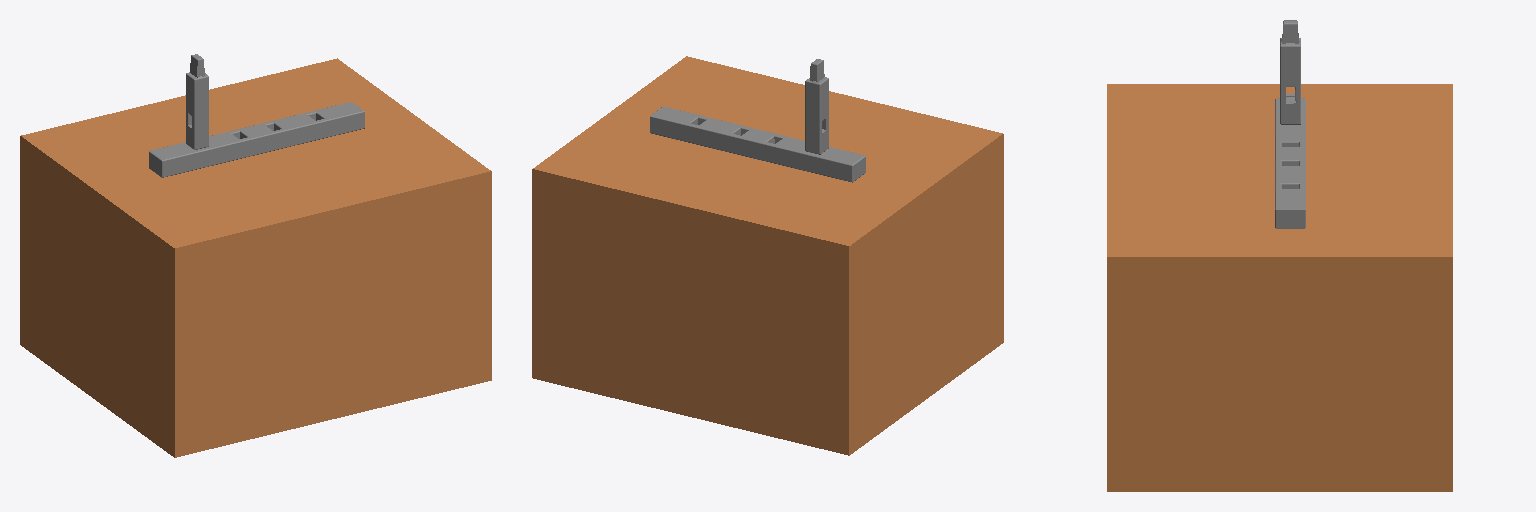
The robot description file, URDF, robot "table_beam_2x_0_scene_0035":
<?xml version="1.0"?>
<robot name="table_beam_2x_0_scene_0035">
  <link name="box">
    <visual>
      <material name="wood"><color rgba="0.82 0.56 0.35 1.0"/></material>
      <origin xyz="0 0 0"/>
      <geometry><box size="0.475 0.4 0.3"/></geometry>
    </visual>
    <collision>
      <origin xyz="0 0 0"/>
      <geometry><box size="0.475 0.4 0.3"/></geometry>
    </collision>
    <inertial>
      <mass value="500"/>
      <friction value="1.0"/>
      <inertia ixx="1000.0" ixy="0.0" ixz="0.0" iyy="1000.0" iyz="0.0" izz="1000.0"/>
    </inertial>
  </link>
  <link name="part_6_canonical">
    <visual>
      <origin xyz="0 0 0" rpy="0 0 0"/>
      <geometry><mesh filename="../../6/6_canonical.obj" scale="1 1 1"/></geometry>
      <material name="placed_0"><color rgba="0.6 0.6 0.6 1.0"/></material>
    </visual>
    <collision>
      <origin xyz="0 0 0" rpy="0 0 0"/>
      <geometry><mesh filename="../../6/6_canonical.obj" scale="1 1 1"/></geometry>
    </collision>
  </link>
  <joint name="part_6_canonical_joint" type="fixed">
    <parent link="box"/>
    <child link="part_6_canonical"/>
    <origin xyz="0.008217 0.012185 0.162666" rpy="0.000000 0.000000 0.000000"/>
  </joint>
  <link name="part_2_hull_0">
    <visual>
      <origin xyz="0 0 0" rpy="0 0 0"/>
      <geometry><mesh filename="../../2/coacd/decomp_0.obj" scale="1 1 1"/></geometry>
      <material name="placed_1"><color rgba="0.6 0.6 0.6 1.0"/></material>
    </visual>
    <collision>
      <origin xyz="0 0 0" rpy="0 0 0"/>
      <geometry><mesh filename="../../2/coacd/decomp_0.obj" scale="1 1 1"/></geometry>
    </collision>
  </link>
  <joint name="part_2_hull_0_joint" type="fixed">
    <parent link="box"/>
    <child link="part_2_hull_0"/>
    <origin xyz="-0.080710 0.012185 0.225384" rpy="0.000000 -1.570796 0.000000"/>
  </joint>
  <link name="part_2_hull_1">
    <visual>
      <origin xyz="0 0 0" rpy="0 0 0"/>
      <geometry><mesh filename="../../2/coacd/decomp_1.obj" scale="1 1 1"/></geometry>
      <material name="placed_2"><color rgba="0.6 0.6 0.6 1.0"/></material>
    </visual>
    <collision>
      <origin xyz="0 0 0" rpy="0 0 0"/>
      <geometry><mesh filename="../../2/coacd/decomp_1.obj" scale="1 1 1"/></geometry>
    </collision>
  </link>
  <joint name="part_2_hull_1_joint" type="fixed">
    <parent link="box"/>
    <child link="part_2_hull_1"/>
    <origin xyz="-0.080710 0.012185 0.225384" rpy="0.000000 -1.570796 0.000000"/>
  </joint>
  <link name="part_2_hull_2">
    <visual>
      <origin xyz="0 0 0" rpy="0 0 0"/>
      <geometry><mesh filename="../../2/coacd/decomp_10.obj" scale="1 1 1"/></geometry>
      <material name="placed_3"><color rgba="0.6 0.6 0.6 1.0"/></material>
    </visual>
    <collision>
      <origin xyz="0 0 0" rpy="0 0 0"/>
      <geometry><mesh filename="../../2/coacd/decomp_10.obj" scale="1 1 1"/></geometry>
    </collision>
  </link>
  <joint name="part_2_hull_2_joint" type="fixed">
    <parent link="box"/>
    <child link="part_2_hull_2"/>
    <origin xyz="-0.080710 0.012185 0.225384" rpy="0.000000 -1.570796 0.000000"/>
  </joint>
  <link name="part_2_hull_3">
    <visual>
      <origin xyz="0 0 0" rpy="0 0 0"/>
      <geometry><mesh filename="../../2/coacd/decomp_11.obj" scale="1 1 1"/></geometry>
      <material name="placed_4"><color rgba="0.6 0.6 0.6 1.0"/></material>
    </visual>
    <collision>
      <origin xyz="0 0 0" rpy="0 0 0"/>
      <geometry><mesh filename="../../2/coacd/decomp_11.obj" scale="1 1 1"/></geometry>
    </collision>
  </link>
  <joint name="part_2_hull_3_joint" type="fixed">
    <parent link="box"/>
    <child link="part_2_hull_3"/>
    <origin xyz="-0.080710 0.012185 0.225384" rpy="0.000000 -1.570796 0.000000"/>
  </joint>
  <link name="part_2_hull_4">
    <visual>
      <origin xyz="0 0 0" rpy="0 0 0"/>
      <geometry><mesh filename="../../2/coacd/decomp_12.obj" scale="1 1 1"/></geometry>
      <material name="placed_5"><color rgba="0.6 0.6 0.6 1.0"/></material>
    </visual>
    <collision>
      <origin xyz="0 0 0" rpy="0 0 0"/>
      <geometry><mesh filename="../../2/coacd/decomp_12.obj" scale="1 1 1"/></geometry>
    </collision>
  </link>
  <joint name="part_2_hull_4_joint" type="fixed">
    <parent link="box"/>
    <child link="part_2_hull_4"/>
    <origin xyz="-0.080710 0.012185 0.225384" rpy="0.000000 -1.570796 0.000000"/>
  </joint>
  <link name="part_2_hull_5">
    <visual>
      <origin xyz="0 0 0" rpy="0 0 0"/>
      <geometry><mesh filename="../../2/coacd/decomp_13.obj" scale="1 1 1"/></geometry>
      <material name="placed_6"><color rgba="0.6 0.6 0.6 1.0"/></material>
    </visual>
    <collision>
      <origin xyz="0 0 0" rpy="0 0 0"/>
      <geometry><mesh filename="../../2/coacd/decomp_13.obj" scale="1 1 1"/></geometry>
    </collision>
  </link>
  <joint name="part_2_hull_5_joint" type="fixed">
    <parent link="box"/>
    <child link="part_2_hull_5"/>
    <origin xyz="-0.080710 0.012185 0.225384" rpy="0.000000 -1.570796 0.000000"/>
  </joint>
  <link name="part_2_hull_6">
    <visual>
      <origin xyz="0 0 0" rpy="0 0 0"/>
      <geometry><mesh filename="../../2/coacd/decomp_14.obj" scale="1 1 1"/></geometry>
      <material name="placed_7"><color rgba="0.6 0.6 0.6 1.0"/></material>
    </visual>
    <collision>
      <origin xyz="0 0 0" rpy="0 0 0"/>
      <geometry><mesh filename="../../2/coacd/decomp_14.obj" scale="1 1 1"/></geometry>
    </collision>
  </link>
  <joint name="part_2_hull_6_joint" type="fixed">
    <parent link="box"/>
    <child link="part_2_hull_6"/>
    <origin xyz="-0.080710 0.012185 0.225384" rpy="0.000000 -1.570796 0.000000"/>
  </joint>
  <link name="part_2_hull_7">
    <visual>
      <origin xyz="0 0 0" rpy="0 0 0"/>
      <geometry><mesh filename="../../2/coacd/decomp_15.obj" scale="1 1 1"/></geometry>
      <material name="placed_8"><color rgba="0.6 0.6 0.6 1.0"/></material>
    </visual>
    <collision>
      <origin xyz="0 0 0" rpy="0 0 0"/>
      <geometry><mesh filename="../../2/coacd/decomp_15.obj" scale="1 1 1"/></geometry>
    </collision>
  </link>
  <joint name="part_2_hull_7_joint" type="fixed">
    <parent link="box"/>
    <child link="part_2_hull_7"/>
    <origin xyz="-0.080710 0.012185 0.225384" rpy="0.000000 -1.570796 0.000000"/>
  </joint>
  <link name="part_2_hull_8">
    <visual>
      <origin xyz="0 0 0" rpy="0 0 0"/>
      <geometry><mesh filename="../../2/coacd/decomp_2.obj" scale="1 1 1"/></geometry>
      <material name="placed_9"><color rgba="0.6 0.6 0.6 1.0"/></material>
    </visual>
    <collision>
      <origin xyz="0 0 0" rpy="0 0 0"/>
      <geometry><mesh filename="../../2/coacd/decomp_2.obj" scale="1 1 1"/></geometry>
    </collision>
  </link>
  <joint name="part_2_hull_8_joint" type="fixed">
    <parent link="box"/>
    <child link="part_2_hull_8"/>
    <origin xyz="-0.080710 0.012185 0.225384" rpy="0.000000 -1.570796 0.000000"/>
  </joint>
  <link name="part_2_hull_9">
    <visual>
      <origin xyz="0 0 0" rpy="0 0 0"/>
      <geometry><mesh filename="../../2/coacd/decomp_3.obj" scale="1 1 1"/></geometry>
      <material name="placed_10"><color rgba="0.6 0.6 0.6 1.0"/></material>
    </visual>
    <collision>
      <origin xyz="0 0 0" rpy="0 0 0"/>
      <geometry><mesh filename="../../2/coacd/decomp_3.obj" scale="1 1 1"/></geometry>
    </collision>
  </link>
  <joint name="part_2_hull_9_joint" type="fixed">
    <parent link="box"/>
    <child link="part_2_hull_9"/>
    <origin xyz="-0.080710 0.012185 0.225384" rpy="0.000000 -1.570796 0.000000"/>
  </joint>
  <link name="part_2_hull_10">
    <visual>
      <origin xyz="0 0 0" rpy="0 0 0"/>
      <geometry><mesh filename="../../2/coacd/decomp_4.obj" scale="1 1 1"/></geometry>
      <material name="placed_11"><color rgba="0.6 0.6 0.6 1.0"/></material>
    </visual>
    <collision>
      <origin xyz="0 0 0" rpy="0 0 0"/>
      <geometry><mesh filename="../../2/coacd/decomp_4.obj" scale="1 1 1"/></geometry>
    </collision>
  </link>
  <joint name="part_2_hull_10_joint" type="fixed">
    <parent link="box"/>
    <child link="part_2_hull_10"/>
    <origin xyz="-0.080710 0.012185 0.225384" rpy="0.000000 -1.570796 0.000000"/>
  </joint>
  <link name="part_2_hull_11">
    <visual>
      <origin xyz="0 0 0" rpy="0 0 0"/>
      <geometry><mesh filename="../../2/coacd/decomp_5.obj" scale="1 1 1"/></geometry>
      <material name="placed_12"><color rgba="0.6 0.6 0.6 1.0"/></material>
    </visual>
    <collision>
      <origin xyz="0 0 0" rpy="0 0 0"/>
      <geometry><mesh filename="../../2/coacd/decomp_5.obj" scale="1 1 1"/></geometry>
    </collision>
  </link>
  <joint name="part_2_hull_11_joint" type="fixed">
    <parent link="box"/>
    <child link="part_2_hull_11"/>
    <origin xyz="-0.080710 0.012185 0.225384" rpy="0.000000 -1.570796 0.000000"/>
  </joint>
  <link name="part_2_hull_12">
    <visual>
      <origin xyz="0 0 0" rpy="0 0 0"/>
      <geometry><mesh filename="../../2/coacd/decomp_6.obj" scale="1 1 1"/></geometry>
      <material name="placed_13"><color rgba="0.6 0.6 0.6 1.0"/></material>
    </visual>
    <collision>
      <origin xyz="0 0 0" rpy="0 0 0"/>
      <geometry><mesh filename="../../2/coacd/decomp_6.obj" scale="1 1 1"/></geometry>
    </collision>
  </link>
  <joint name="part_2_hull_12_joint" type="fixed">
    <parent link="box"/>
    <child link="part_2_hull_12"/>
    <origin xyz="-0.080710 0.012185 0.225384" rpy="0.000000 -1.570796 0.000000"/>
  </joint>
  <link name="part_2_hull_13">
    <visual>
      <origin xyz="0 0 0" rpy="0 0 0"/>
      <geometry><mesh filename="../../2/coacd/decomp_7.obj" scale="1 1 1"/></geometry>
      <material name="placed_14"><color rgba="0.6 0.6 0.6 1.0"/></material>
    </visual>
    <collision>
      <origin xyz="0 0 0" rpy="0 0 0"/>
      <geometry><mesh filename="../../2/coacd/decomp_7.obj" scale="1 1 1"/></geometry>
    </collision>
  </link>
  <joint name="part_2_hull_13_joint" type="fixed">
    <parent link="box"/>
    <child link="part_2_hull_13"/>
    <origin xyz="-0.080710 0.012185 0.225384" rpy="0.000000 -1.570796 0.000000"/>
  </joint>
  <link name="part_2_hull_14">
    <visual>
      <origin xyz="0 0 0" rpy="0 0 0"/>
      <geometry><mesh filename="../../2/coacd/decomp_8.obj" scale="1 1 1"/></geometry>
      <material name="placed_15"><color rgba="0.6 0.6 0.6 1.0"/></material>
    </visual>
    <collision>
      <origin xyz="0 0 0" rpy="0 0 0"/>
      <geometry><mesh filename="../../2/coacd/decomp_8.obj" scale="1 1 1"/></geometry>
    </collision>
  </link>
  <joint name="part_2_hull_14_joint" type="fixed">
    <parent link="box"/>
    <child link="part_2_hull_14"/>
    <origin xyz="-0.080710 0.012185 0.225384" rpy="0.000000 -1.570796 0.000000"/>
  </joint>
  <link name="part_2_hull_15">
    <visual>
      <origin xyz="0 0 0" rpy="0 0 0"/>
      <geometry><mesh filename="../../2/coacd/decomp_9.obj" scale="1 1 1"/></geometry>
      <material name="placed_16"><color rgba="0.6 0.6 0.6 1.0"/></material>
    </visual>
    <collision>
      <origin xyz="0 0 0" rpy="0 0 0"/>
      <geometry><mesh filename="../../2/coacd/decomp_9.obj" scale="1 1 1"/></geometry>
    </collision>
  </link>
  <joint name="part_2_hull_15_joint" type="fixed">
    <parent link="box"/>
    <child link="part_2_hull_15"/>
    <origin xyz="-0.080710 0.012185 0.225384" rpy="0.000000 -1.570796 0.000000"/>
  </joint>
</robot>

--- Facts derived from the render (not from the file) ---
Views: 3 orthographic renders of the robot side by side, from view 1: azimuth 30°, elevation 25°; view 2: azimuth 150°, elevation 25°; view 3: azimuth 270°, elevation 25°.
Model table_beam_2x_0_scene_0035 with 18 links and 17 joints (17 fixed), rooted at box, posed all joints at 0.
Links seen in each view (by area): view 1: box, part_6_canonical; view 2: box, part_6_canonical, part_2_hull_1; view 3: box, part_6_canonical.
Link boxes in pixels (left/top/right/bottom): box: left=20, top=58, right=491, bottom=457; part_6_canonical: left=149, top=102, right=364, bottom=177; box: left=532, top=56, right=1003, bottom=455; part_6_canonical: left=650, top=106, right=865, bottom=182; part_2_hull_1: left=816, top=77, right=828, bottom=121; box: left=1107, top=84, right=1452, bottom=491; part_6_canonical: left=1275, top=98, right=1305, bottom=228.
Bounding box of the posed robot: 0.475 × 0.4 × 0.4524 m (x, y, z).
Meshes: 17 distinct files referenced, 17 mesh visuals loaded (17 OBJ).
